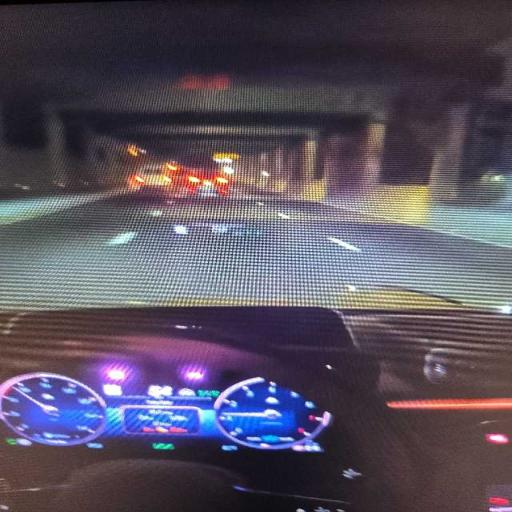car: (128, 163, 183, 196), (184, 169, 230, 196)
lane: (0, 199, 511, 309)
